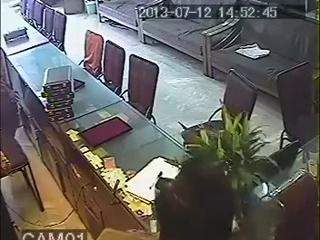Normal: (155, 158, 239, 240)
